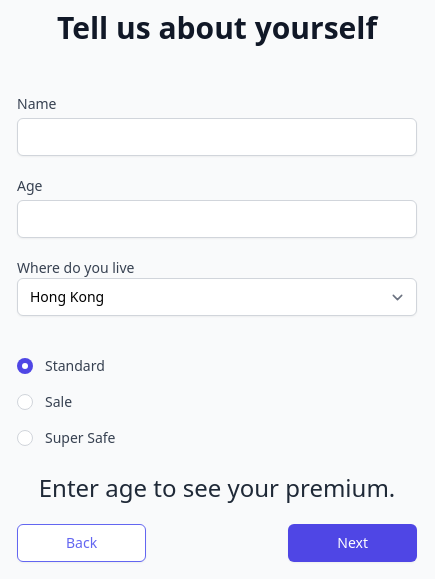
it: Start Page Spec › Complete form inputs › Should show the correct premium for AU
Type "John Doe" into the field named "name" at coordinates (217, 137), box x1=17 y1=118 x2=417 y2=156
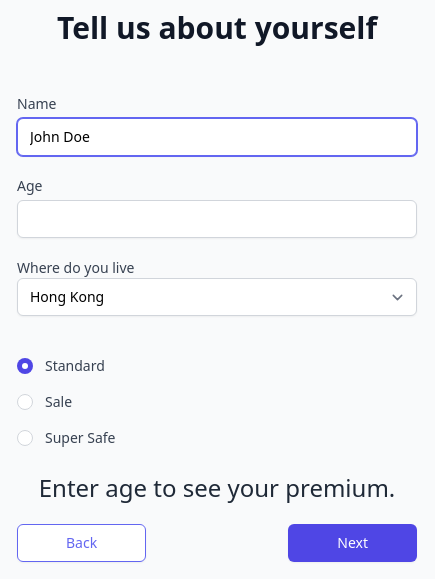
Type "10" into the number field named "age" at coordinates (217, 219), box x1=17 y1=200 x2=417 y2=238
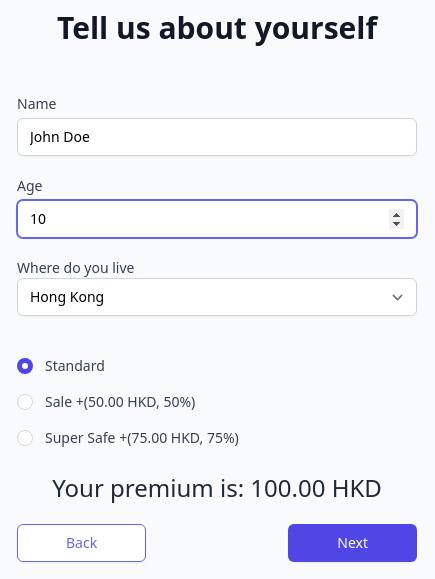
Select "Australia" in the dropdown named "country" at coordinates (217, 297), box x1=17 y1=278 x2=417 y2=316
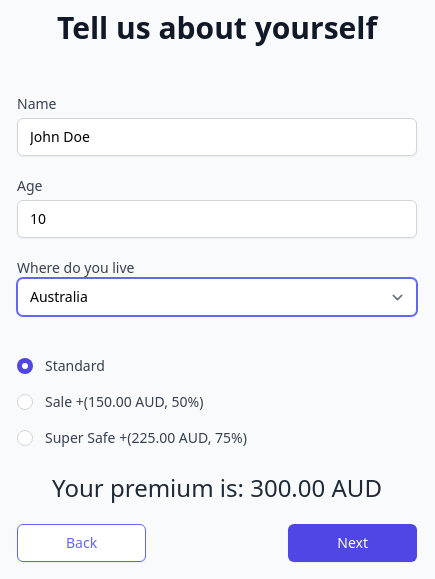
Check: the heading "Your premium is: 300.00 AUD" is shown, box x1=52 y1=471 x2=382 y2=504
